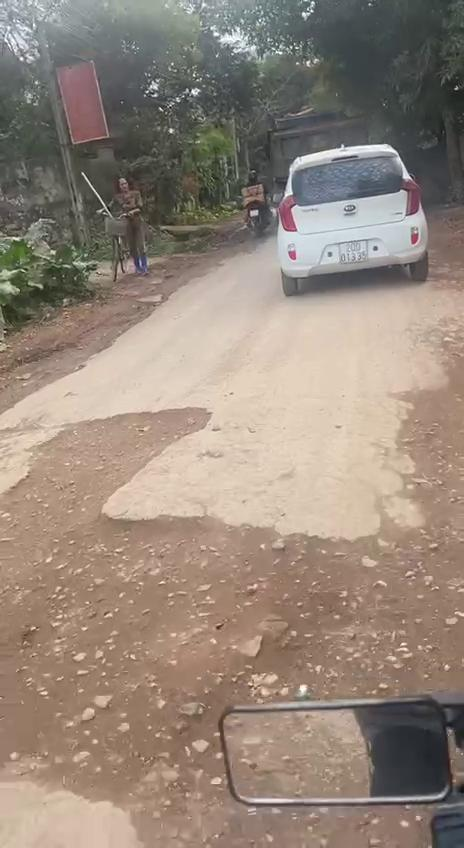pothole: (0, 406, 464, 848), (396, 333, 464, 550)
